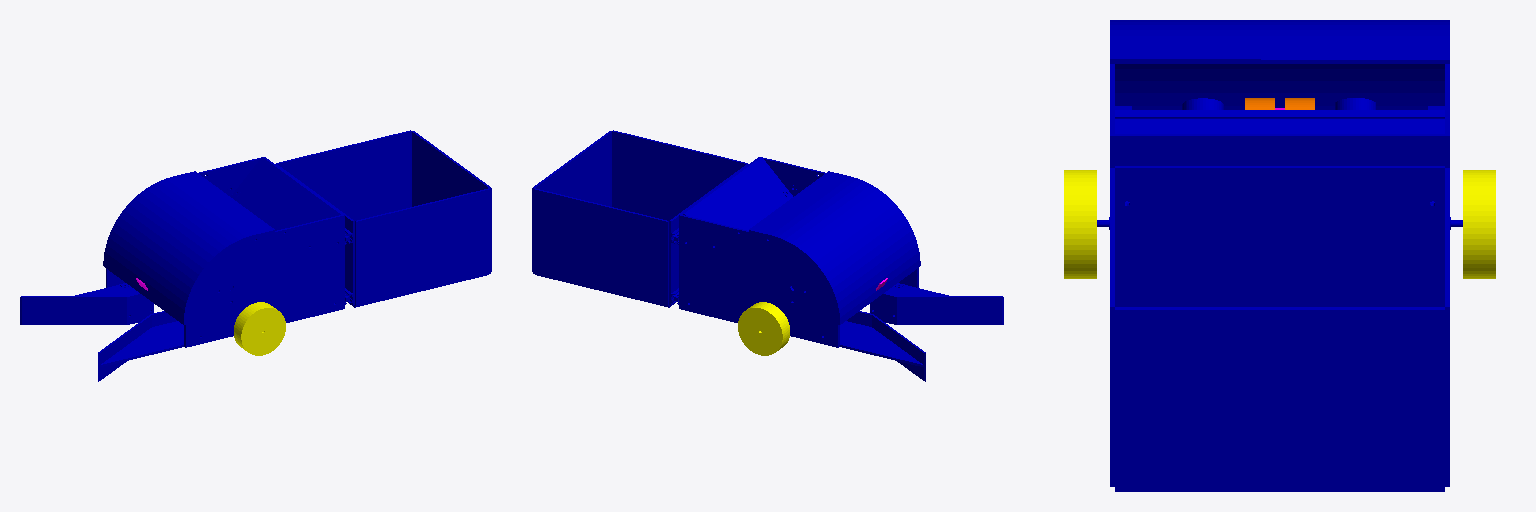
URDF robot description (TRR):
<!-- ======================================== Author: [author] ========================================  -->

<!-- ================================== Tennis ball Retrieval Robot =================================== -->
<robot name="TRR">

<!-- ============================================= Colors ============================================= -->
  <!-- Orange-->
  <material name="orange">
    <color rgba="1.0 0.5 0.0 1.0"/>
  </material>

  <!-- Blue--> 
  <material name="blue">
    <color rgba="0 0 0.8 1"/>
  </material>

  <!-- Yellow-->
  <material name="yellow">
    <color rgba="1 1 0 1"/>
  </material>

  <!-- Purple-->
  <material name="purple">
    <color rgba="1 0 1 1"/>
  </material>


<!-- ============================================= Components ============================================ -->
  <!-- Base-->
  <link name="base_link">
  </link>

  <!-- Frame-->
  <link name="frame_link">
    <visual>
      <material name="blue"/>
      <geometry>
        <mesh filename="package://my_robot/meshes/base0.stl" scale="0.001 0.001 0.001"/>
      </geometry>
      <origin xyz="0 0 0" rpy="0 0.0 3.1415"/>
    </visual>

    <collision>
      <geometry>
        <mesh filename="package://my_robot/meshes/base0.stl" scale="0.001 0.001 0.001"/>
      </geometry>
      <origin xyz="0 0 0" rpy="0 0.0 3.1415"/>
    </collision>

    <inertial>
      <mass value="20"/>
      <inertia ixx="1.0" ixy="0.0" ixz="0.0" iyy="1.0" iyz="0.0" izz="1.0"/>
      <origin xyz="-0.205009 0 0" rpy="0.0 0.0 0.0"/>
    </inertial>
  </link>
  
  <!-- Base => Frame -->
  <joint name="frame_joint" type="fixed">
    <parent link="base_link"/>
    <child link="frame_link"/>
  </joint>

  <!-- Left active wheel-->
  <link name="left_active_wheel_link">
    <visual>
      <material name="yellow"/>
      <geometry>
        <mesh filename="package://my_robot/meshes/main_wheel.stl" scale="0.001 0.001 0.001"/>
      </geometry>
    </visual>

    <collision>
      <geometry>
        <mesh filename="package://my_robot/meshes/main_wheel.stl" scale="0.001 0.001 0.001"/>
      </geometry>
    </collision>

    <inertial>
        <mass value="0.18"/>
        <inertia ixx="0.1" ixy="0.0" ixz="0.0" iyy="0.1" iyz="0.0" izz="0.1"/>
    </inertial>
  </link>

  <!-- Frame => Left active wheel -->
  <joint name="left_active_wheel_joint" type="continuous">
    <parent link="frame_link"/> 
    <child link="left_active_wheel_link"/>
    <origin xyz="-0.205009 -0.1965 0.016" rpy="0 0.0 0.0"/>
    <axis xyz="0 1 0"/>
  </joint>

  <!-- Right active wheel-->
  <link name="right_active_wheel_link">
    <visual>
      <material name="yellow"/>
      <geometry>
        <mesh filename="package://my_robot/meshes/main_wheel.stl" scale="0.001 0.001 0.001"/>
      </geometry>
    </visual>

    <collision>
      <geometry>
        <mesh filename="package://my_robot/meshes/main_wheel.stl" scale="0.001 0.001 0.001"/>
      </geometry>
    </collision>

    <inertial>
        <mass value="0.18"/>
        <inertia ixx="0.1" ixy="0.0" ixz="0.0" iyy="0.1" iyz="0.0" izz="0.1"/>
    </inertial>
  </link>

  <!-- Frame => Right active wheel -->
  <joint name="right_active_wheel_joint" type="continuous">
    <parent link="frame_link"/> 
    <child link="right_active_wheel_link"/>
    <origin xyz="-0.205009 0.1665 0.016" rpy="0 0.0 0.0"/>
    <axis xyz="0 1 0"/>
  </joint>

 <!-- Left caster wheel -->
  <link name="left_caster_wheel_link">
    <visual>
      <geometry>
        <sphere radius="0.0125"/>
      </geometry>
      <origin rpy="0 0 0" xyz="0 0 0"/>
      <material name="yellow"/>
    </visual>

    <inertial>
        <mass value="0.13"/>
        <inertia ixx="8.125e-6" ixy="0" ixz="0" iyy="8.125e-6" iyz="0" izz="8.125e-6"/>
    </inertial>
    
    <collision>
      <geometry>
        <sphere radius="0.0125"/>
      </geometry>
    </collision>
  </link>

  <!-- Frame => Left caster wheel -->
  <joint name="left_caster_wheel_joint" type="continuous">
    <parent link="frame_link"/>
    <child link="left_caster_wheel_link"/>
    <origin xyz="0.256624 -0.090583 -0.021" rpy="0 0.0 0.0"/>
    <axis xyz="0 1.0 1.0"/>
  </joint>

 <!-- Right caster wheel -->
  <link name="right_caster_wheel_link">
    <visual>
      <geometry>
        <sphere radius="0.0125"/>
      </geometry>
      <origin rpy="0 0 0" xyz="0 0 0"/>
      <material name="yellow"/>
    </visual>

    <inertial>
        <mass value="0.13"/>
        <inertia ixx="8.125e-6" ixy="0" ixz="0" iyy="8.125e-6" iyz="0" izz="8.125e-6"/>
    </inertial>

    <collision>
      <geometry>
        <sphere radius="0.0125"/>
      </geometry>
    </collision>
  </link>

  <!-- Frame => Right caster wheel -->
  <joint name="right_caster_wheel_joint" type="continuous">
    <parent link="frame_link"/>
    <child link="right_caster_wheel_link"/>
    <origin xyz="0.256624 0.090583 -0.021" rpy="0 0.0 0.0"/>
    <axis xyz="0 1.0 1.0"/>
  </joint>

  <!-- Left shooting wheel-->
  <link name="left_shooting_wheel_link">
    <visual>
      <origin rpy="0 0 0" xyz="0 0 0"/>
      <material name="orange"/>
      <geometry>
        <mesh filename="package://my_robot/meshes/shooting_wheel.stl" scale="0.001 0.001 0.001"/>
      </geometry>
    </visual>

    <collision>
      <geometry>
        <mesh filename="package://my_robot/meshes/shooting_wheel.stl" scale="0.001 0.001 0.001"/>
      </geometry>
    </collision>

    <inertial>
        <mass value="0.1"/>
        <inertia ixx="0.1" ixy="0.0" ixz="0.0" iyy="0.1" iyz="0.0" izz="0.1"/>
    </inertial>
  </link>

  <!-- Frame => Left shooting wheel-->
  <joint name="left_shooting_wheel_joint" type="continuous">
    <parent link="frame_link"/> 
    <child link="left_shooting_wheel_link"/>
    <origin xyz="-0.304155 -0.032 0.0605" rpy="0 0 0"/>
        <axis xyz="0 1 0"/>
  </joint>

  <!-- Right shooting wheel-->
  <link name="right_shooting_wheel_link">
    <visual>
      <origin rpy="0 0 0" xyz="0 0 0"/>
      <material name="orange"/>
      <geometry>
        <mesh filename="package://my_robot/meshes/shooting_wheel.stl" scale="0.001 0.001 0.001"/>
      </geometry>
    </visual>

    <collision>
      <geometry>
        <mesh filename="package://my_robot/meshes/shooting_wheel.stl" scale="0.001 0.001 0.001"/>
      </geometry>
    </collision>

    <inertial>
        <mass value="0.1"/>
        <inertia ixx="0.1" ixy="0.0" ixz="0.0" iyy="0.1" iyz="0.0" izz="0.1"/>
    </inertial>
  </link>

  <!-- Frame => Right shooting wheel-->
  <joint name="right_shooting_wheel_joint" type="continuous">
    <parent link="frame_link"/> 
    <child link="right_shooting_wheel_link"/>
    <origin xyz="-0.304155 0.005 0.0605" rpy="0 0 0"/>
        <axis xyz="0 1 0"/>
  </joint>

  <!-- Camera Link -->
  <link name="camera_link">
    <visual>
      <origin rpy="0 0 0" xyz="0 0 0"/>
      <material name="purple"/>
      <geometry>
        <box size="0.003 0.03 0.03"/>
      </geometry>
    </visual>

    <collision>
      <geometry>
        <box size="0.03 0.03 0.003"/>
      </geometry>
    </collision>

    <inertial>
      <mass value="0.0024" />
      <inertia ixx="1e-6" ixy="0" ixz="0" iyy="1e-6" iyz="0" izz="1e-6" />
    </inertial>

  </link>

  <!-- Camera Joint (Fixed) -->
  <joint name="camera_joint" type="fixed">
      <parent link="frame_link"/>
      <child link="camera_link"/>
      <origin xyz="-0.36 0.0 0.07" rpy="0.0 0.52358 3.1415"/>
  </joint>  

<!-- ============================================= Transmission ============================================ -->
  <!-- Right Front Wheel Transmission -->
  <transmission name="tran1">
      <type>transmission_interface/SimpleTransmission</type>
      <joint name="left_active_wheel_joint">
          <hardwareInterface>hardware_interface/EffortJointInterface</hardwareInterface>
      </joint>
      <actuator name="motor1">
          <hardwareInterface>hardware_interface/EffortJointInterface</hardwareInterface>
          <mechanicalReduction>1</mechanicalReduction>
      </actuator>
  </transmission>

  <!-- Left Front Wheel Transmission -->
  <transmission name="tran2">
      <type>transmission_interface/SimpleTransmission</type>
      <joint name="right_active_wheel_joint">
          <hardwareInterface>hardware_interface/EffortJointInterface</hardwareInterface>
      </joint>
      <actuator name="motor2">
          <hardwareInterface>hardware_interface/EffortJointInterface</hardwareInterface>
          <mechanicalReduction>1</mechanicalReduction>
      </actuator>
  </transmission>

  <!-- Right Shoot Wheel Transmission -->
  <transmission name="tran3">
      <type>transmission_interface/SimpleTransmission</type>
      <joint name="left_shooting_wheel_joint">
          <hardwareInterface>hardware_interface/EffortJointInterface</hardwareInterface>
      </joint>
      <actuator name="motor3">
          <hardwareInterface>hardware_interface/EffortJointInterface</hardwareInterface>
          <mechanicalReduction>1</mechanicalReduction>
      </actuator>
  </transmission>

  <!-- Left Shoot Wheel Transmission -->
  <transmission name="tran4">
      <type>transmission_interface/SimpleTransmission</type>
      <joint name="right_shooting_wheel_joint">
          <hardwareInterface>hardware_interface/EffortJointInterface</hardwareInterface>
      </joint>
      <actuator name="motor4">
          <hardwareInterface>hardware_interface/EffortJointInterface</hardwareInterface>
          <mechanicalReduction>1</mechanicalReduction>
      </actuator>
  </transmission>

<!-- ================================================== Gazebo ====================================================== -->
  <!-- Gazebo Visual Properties -->
  <gazebo reference="frame_link">
      <material>Gazebo/Blue</material>
  </gazebo>
  <gazebo reference="left_active_wheel_link">
      <material>Gazebo/Yellow</material>
  </gazebo>
  <gazebo reference="right_active_wheel_link">
      <material>Gazebo/Yellow</material>
  </gazebo>
  <gazebo reference="left_caster_wheel_link">
      <material>Gazebo/Yellow</material>
  </gazebo>
  <gazebo reference="right_caster_wheel_link">
      <material>Gazebo/Yellow</material>
  </gazebo>
  <gazebo reference="left_shooting_wheel_link">
      <material>Gazebo/Orange</material>
  </gazebo>
  <gazebo reference="right_shooting_wheel_link">
      <material>Gazebo/Orange</material>
  </gazebo>

  <!-- Camera Sensor -->
  <gazebo reference="camera_link">
    <material>Gazebo/Purple</material>
    <sensor type="camera" name="camera1">
      <update_rate>30.0</update_rate>
      <camera name="head">
        <horizontal_fov>1.3962634</horizontal_fov>
        <image>
          <width>640</width>
          <height>480</height>
          <format>R8G8B8</format>
        </image>
        <clip>
          <near>0.02</near>
          <far>300</far>
        </clip>
        <noise>
          <type>gaussian</type>
          <mean>0.0</mean>
          <stddev>0.007</stddev>
        </noise>
      </camera>
      <plugin name="camera_controller" filename="libgazebo_ros_camera.so">
        <alwaysOn>true</alwaysOn>
        <updateRate>0.0</updateRate>
        <cameraName>my_robot/camera1</cameraName>
        <imageTopicName>image_raw</imageTopicName>
        <cameraInfoTopicName>camera_info</cameraInfoTopicName>
        <frameName>camera_link</frameName>
        <hackBaseline>0.07</hackBaseline>
        <distortionK1>0.0</distortionK1>
        <distortionK2>0.0</distortionK2>
        <distortionK3>0.0</distortionK3>
        <distortionT1>0.0</distortionT1>
        <distortionT2>0.0</distortionT2>
      </plugin>
    </sensor>
  </gazebo>

  <!-- Gazebo ROS Control Plugin -->
  <gazebo>
      <plugin name="gazebo_ros_control" filename="libgazebo_ros_control.so">
          <robotNamespace>/my_TRR</robotNamespace>
      </plugin>
  </gazebo>

</robot>

--- Render facts (derived) ---
Views: 3 orthographic renders of the robot side by side, from view 1: azimuth 30°, elevation 25°; view 2: azimuth 150°, elevation 25°; view 3: azimuth 270°, elevation 25°.
Model TRR with 9 links and 8 joints (6 continuous, 2 fixed), rooted at base_link, posed every joint at zero.
Visible links, largest first — view 1: frame_link, left_active_wheel_link; view 2: frame_link, right_active_wheel_link; view 3: frame_link, left_active_wheel_link, right_active_wheel_link.
Link boxes in pixels (<box>): frame_link: <box>20,130,491,381</box>; left_active_wheel_link: <box>234,302,285,355</box>; frame_link: <box>532,130,1003,381</box>; right_active_wheel_link: <box>738,302,789,355</box>; frame_link: <box>1097,20,1462,491</box>; left_active_wheel_link: <box>1064,170,1096,278</box>; right_active_wheel_link: <box>1463,170,1495,278</box>.
Size in the robot's own frame: 0.8776 by 0.393 by 0.239 metres.
5 mesh visuals loaded from 3 distinct referenced files (3 binary STL).